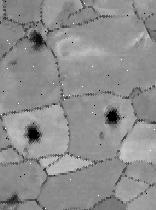good_void: (103, 103, 126, 125), (23, 123, 46, 145), (28, 31, 47, 51), (6, 192, 27, 206), (96, 128, 106, 140), (9, 57, 20, 67), (20, 145, 30, 155)
